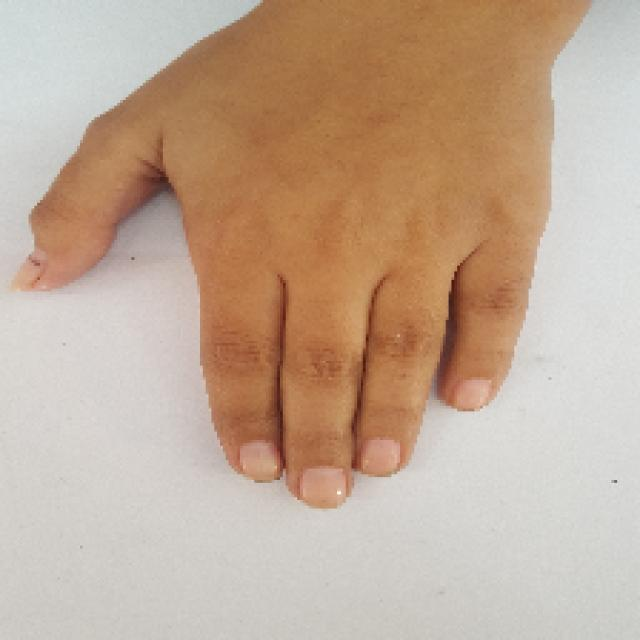Nail: (298, 465, 349, 508), (239, 440, 282, 481), (356, 438, 401, 476), (12, 248, 48, 290), (450, 378, 494, 410)
